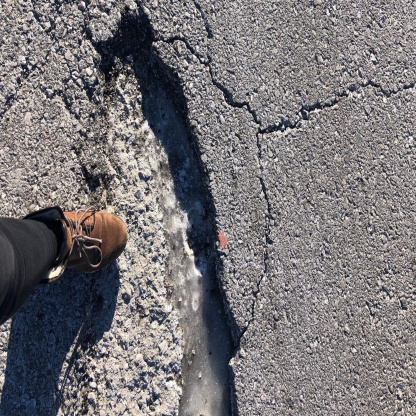pothole: (65, 1, 250, 416)
